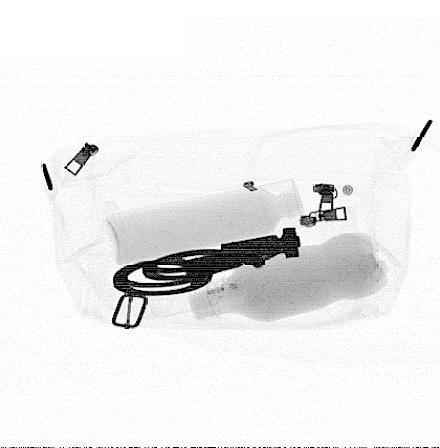HandCuffs: (109, 225, 307, 300)
